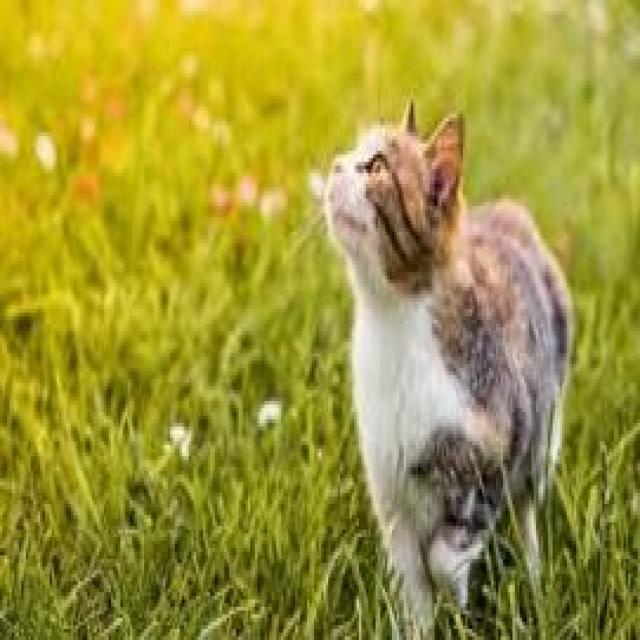Gato: (314, 92, 576, 640)
